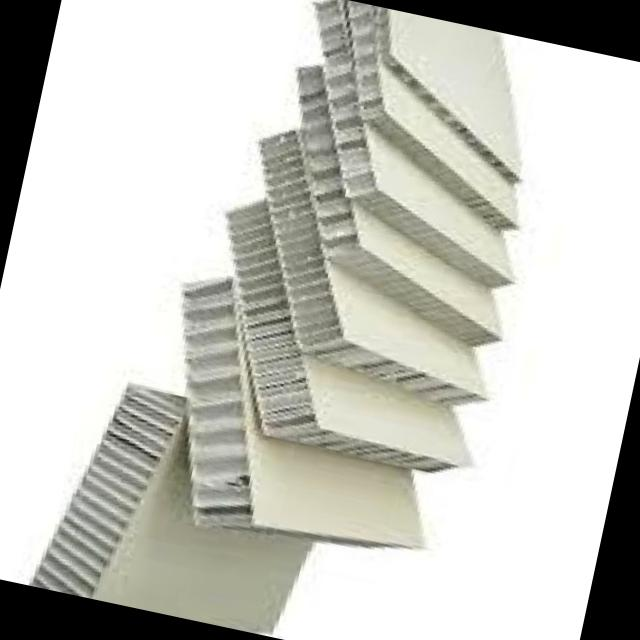cardboard paper: (185, 0, 521, 549), (186, 0, 521, 549)
